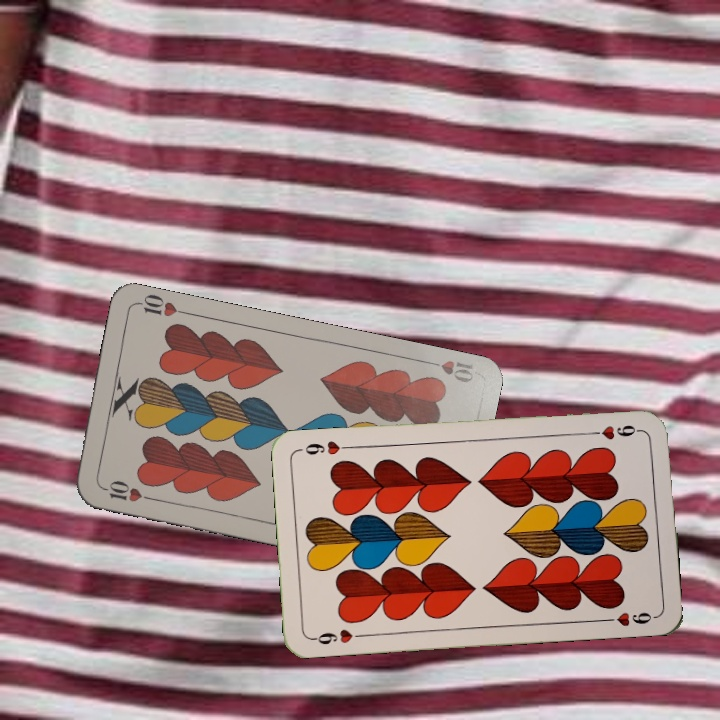H10: (419, 356, 476, 386), (97, 476, 155, 505)
H9: (308, 625, 367, 648), (585, 420, 644, 443)
